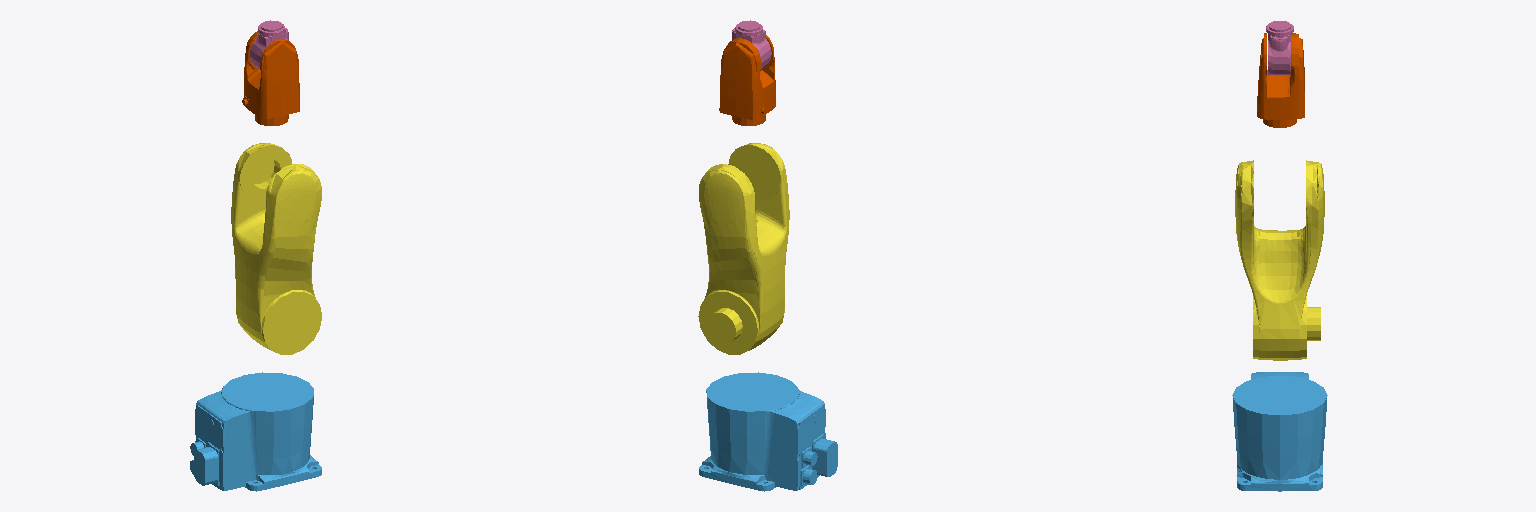
The robot description file, URDF, robot "vs068r":
<?xml version="1.0" encoding="UTF-8"?>
<robot name="vs068r">
	<gazebo>
		<plugin name="gazebo_ros_control" filename="libgazebo_ros_control.so">
			<robotNamespace>/vs068r</robotNamespace>
		</plugin>
	</gazebo>
	<link name="vs068r_world"/>
	<joint name="vs068r_joint_w" type="fixed">
		<parent link="vs068r_world"/>
		<child link="vs068r_base_link"/>
	</joint>
	<link name="vs068r_base_link">
		<visual>
			<origin rpy="0 0 0" xyz="0 0 0"/>
			<geometry>
				<mesh filename="package://denso_robot_descriptions/vs068r_description/base_link.dae" scale="1 1 1"/>
			</geometry>
		</visual>
		<collision>
			<origin rpy="0 0 0" xyz="0 0 0"/>
			<geometry>
				<mesh filename="package://denso_robot_descriptions/vs068r_description/base_link.dae" scale="1 1 1"/>
			</geometry>
		</collision>
		<inertial>
			<mass value="1"/>
			<origin rpy="0.000000 0.000000 0.000000" xyz="0.000000 0.000000 0.000000"/>
			<inertia ixx="1" ixy="0" ixz="0" iyy="1" iyz="0" izz="1"/>
		</inertial>
	</link>
	<link name="vs068r_J1">
		<visual>
			<origin rpy="0 0 0" xyz="0 0 0"/>
			<geometry>
				<mesh filename="package://denso_robot_descriptions/vs068r_description/J1.dae" scale="1 1 1"/>
			</geometry>
		</visual>
		<collision>
			<origin rpy="0 0 0" xyz="0 0 0"/>
			<geometry>
				<mesh filename="package://denso_robot_descriptions/vs068r_description/J1.dae" scale="1 1 1"/>
			</geometry>
		</collision>
		<inertial>
			<mass value="1"/>
			<origin rpy="0.000000 0.000000 0.000000" xyz="0.000000 0.000000 0.000000"/>
			<inertia ixx="1" ixy="0" ixz="0" iyy="1" iyz="0" izz="1"/>
		</inertial>
	</link>
	<joint name="vs068r_joint_1" type="revolute">
		<parent link="vs068r_base_link"/>
		<child link="vs068r_J1"/>
		<origin rpy="0.000000 0.000000 0.000000" xyz="0.000000 0.000000 0.197500"/>
		<axis xyz="-0.000000 -0.000000 1.000000"/>
		<limit effort="1" lower="-2.96705972839036" upper="2.96705972839036" velocity="1"/>
		<dynamics damping="0" friction="0"/>
	</joint>
	<transmission name="vs068r_trans_1">
		<type>transmission_interface/SimpleTransmission</type>
		<joint name="vs068r_joint_1">
			<hardwareInterface>hardware_interface/PositionJointInterface</hardwareInterface>
		</joint>
		<actuator name="vs068r_motor_1">
			<hardwareInterface>hardware_interface/PositionJointInterface</hardwareInterface>
			<mechanicalReduction>1</mechanicalReduction>
		</actuator>
	</transmission>
	<link name="vs068r_J2">
		<visual>
			<origin rpy="0 0 0" xyz="0 0 0"/>
			<geometry>
				<mesh filename="package://denso_robot_descriptions/vs068r_description/J2.dae" scale="1 1 1"/>
			</geometry>
		</visual>
		<collision>
			<origin rpy="0 0 0" xyz="0 0 0"/>
			<geometry>
				<mesh filename="package://denso_robot_descriptions/vs068r_description/J2.dae" scale="1 1 1"/>
			</geometry>
		</collision>
		<inertial>
			<mass value="1"/>
			<origin rpy="0.000000 0.000000 0.000000" xyz="0.000000 0.000000 0.000000"/>
			<inertia ixx="1" ixy="0" ixz="0" iyy="1" iyz="0" izz="1"/>
		</inertial>
	</link>
	<joint name="vs068r_joint_2" type="revolute">
		<parent link="vs068r_J1"/>
		<child link="vs068r_J2"/>
		<origin rpy="0.000000 0.000000 0.000000" xyz="0.030000 0.000000 0.197500"/>
		<axis xyz="-0.000000 1.000000 -0.000000"/>
		<limit effort="1" lower="-1.74532925199433" upper="2.35619449019234" velocity="1"/>
		<dynamics damping="0" friction="0"/>
	</joint>
	<transmission name="vs068r_trans_2">
		<type>transmission_interface/SimpleTransmission</type>
		<joint name="vs068r_joint_2">
			<hardwareInterface>hardware_interface/PositionJointInterface</hardwareInterface>
		</joint>
		<actuator name="vs068r_motor_2">
			<hardwareInterface>hardware_interface/PositionJointInterface</hardwareInterface>
			<mechanicalReduction>1</mechanicalReduction>
		</actuator>
	</transmission>
	<link name="vs068r_J3">
		<visual>
			<origin rpy="0 0 0" xyz="0 0 0"/>
			<geometry>
				<mesh filename="package://denso_robot_descriptions/vs068r_description/J3.dae" scale="1 1 1"/>
			</geometry>
		</visual>
		<collision>
			<origin rpy="0 0 0" xyz="0 0 0"/>
			<geometry>
				<mesh filename="package://denso_robot_descriptions/vs068r_description/J3.dae" scale="1 1 1"/>
			</geometry>
		</collision>
		<inertial>
			<mass value="1"/>
			<origin rpy="0.000000 0.000000 0.000000" xyz="0.000000 0.000000 0.000000"/>
			<inertia ixx="1" ixy="0" ixz="0" iyy="1" iyz="0" izz="1"/>
		</inertial>
	</link>
	<joint name="vs068r_joint_3" type="revolute">
		<parent link="vs068r_J2"/>
		<child link="vs068r_J3"/>
		<origin rpy="0.000000 0.000000 0.000000" xyz="0.000000 0.000000 0.340000"/>
		<axis xyz="-0.000000 1.000000 -0.000000"/>
		<limit effort="1" lower="-2.0943951023932" upper="2.67035375555132" velocity="1"/>
		<dynamics damping="0" friction="0"/>
	</joint>
	<transmission name="vs068r_trans_3">
		<type>transmission_interface/SimpleTransmission</type>
		<joint name="vs068r_joint_3">
			<hardwareInterface>hardware_interface/PositionJointInterface</hardwareInterface>
		</joint>
		<actuator name="vs068r_motor_3">
			<hardwareInterface>hardware_interface/PositionJointInterface</hardwareInterface>
			<mechanicalReduction>1</mechanicalReduction>
		</actuator>
	</transmission>
	<link name="vs068r_J4">
		<visual>
			<origin rpy="0 0 0" xyz="0 0 0"/>
			<geometry>
				<mesh filename="package://denso_robot_descriptions/vs068r_description/J4.dae" scale="1 1 1"/>
			</geometry>
		</visual>
		<collision>
			<origin rpy="0 0 0" xyz="0 0 0"/>
			<geometry>
				<mesh filename="package://denso_robot_descriptions/vs068r_description/J4.dae" scale="1 1 1"/>
			</geometry>
		</collision>
		<inertial>
			<mass value="1"/>
			<origin rpy="0.000000 0.000000 0.000000" xyz="0.000000 0.000000 0.000000"/>
			<inertia ixx="1" ixy="0" ixz="0" iyy="1" iyz="0" izz="1"/>
		</inertial>
	</link>
	<joint name="vs068r_joint_4" type="revolute">
		<parent link="vs068r_J3"/>
		<child link="vs068r_J4"/>
		<origin rpy="0.000000 0.000000 0.000000" xyz="-0.020000 0.000000 0.197000"/>
		<axis xyz="-0.000000 -0.000000 1.000000"/>
		<limit effort="1" lower="-4.71238898038469" upper="4.71238898038469" velocity="1"/>
		<dynamics damping="0" friction="0"/>
	</joint>
	<transmission name="vs068r_trans_4">
		<type>transmission_interface/SimpleTransmission</type>
		<joint name="vs068r_joint_4">
			<hardwareInterface>hardware_interface/PositionJointInterface</hardwareInterface>
		</joint>
		<actuator name="vs068r_motor_4">
			<hardwareInterface>hardware_interface/PositionJointInterface</hardwareInterface>
			<mechanicalReduction>1</mechanicalReduction>
		</actuator>
	</transmission>
	<link name="vs068r_J5">
		<visual>
			<origin rpy="0 0 0" xyz="0 0 0"/>
			<geometry>
				<mesh filename="package://denso_robot_descriptions/vs068r_description/J5.dae" scale="1 1 1"/>
			</geometry>
		</visual>
		<collision>
			<origin rpy="0 0 0" xyz="0 0 0"/>
			<geometry>
				<mesh filename="package://denso_robot_descriptions/vs068r_description/J5.dae" scale="1 1 1"/>
			</geometry>
		</collision>
		<inertial>
			<mass value="1"/>
			<origin rpy="0.000000 0.000000 0.000000" xyz="0.000000 0.000000 0.000000"/>
			<inertia ixx="1" ixy="0" ixz="0" iyy="1" iyz="0" izz="1"/>
		</inertial>
	</link>
	<joint name="vs068r_joint_5" type="revolute">
		<parent link="vs068r_J4"/>
		<child link="vs068r_J5"/>
		<origin rpy="0.000000 0.000000 0.000000" xyz="0.000000 0.000000 0.143000"/>
		<axis xyz="-0.000000 1.000000 -0.000000"/>
		<limit effort="1" lower="-2.0943951023932" upper="2.0943951023932" velocity="1"/>
		<dynamics damping="0" friction="0"/>
	</joint>
	<transmission name="vs068r_trans_5">
		<type>transmission_interface/SimpleTransmission</type>
		<joint name="vs068r_joint_5">
			<hardwareInterface>hardware_interface/PositionJointInterface</hardwareInterface>
		</joint>
		<actuator name="vs068r_motor_5">
			<hardwareInterface>hardware_interface/PositionJointInterface</hardwareInterface>
			<mechanicalReduction>1</mechanicalReduction>
		</actuator>
	</transmission>
	<link name="vs068r_J6">
		<visual>
			<origin rpy="0 0 0" xyz="0 0 0"/>
			<geometry>
				<mesh filename="package://denso_robot_descriptions/vs068r_description/J6.dae" scale="1 1 1"/>
			</geometry>
		</visual>
		<collision>
			<origin rpy="0 0 0" xyz="0 0 0"/>
			<geometry>
				<mesh filename="package://denso_robot_descriptions/vs068r_description/J6.dae" scale="1 1 1"/>
			</geometry>
		</collision>
		<inertial>
			<mass value="1"/>
			<origin rpy="0.000000 0.000000 0.000000" xyz="0.000000 0.000000 0.000000"/>
			<inertia ixx="1" ixy="0" ixz="0" iyy="1" iyz="0" izz="1"/>
		</inertial>
	</link>
	<joint name="vs068r_joint_6" type="revolute">
		<parent link="vs068r_J5"/>
		<child link="vs068r_J6"/>
		<origin rpy="0.000000 0.000000 0.000000" xyz="0.000000 0.000000 0.080000"/>
		<axis xyz="-0.000000 -0.000000 1.000000"/>
		<limit effort="1" lower="-6.28318530717959" upper="6.28318530717959" velocity="1"/>
		<dynamics damping="0" friction="0"/>
	</joint>
	<transmission name="vs068r_trans_6">
		<type>transmission_interface/SimpleTransmission</type>
		<joint name="vs068r_joint_6">
			<hardwareInterface>hardware_interface/PositionJointInterface</hardwareInterface>
		</joint>
		<actuator name="vs068r_motor_6">
			<hardwareInterface>hardware_interface/PositionJointInterface</hardwareInterface>
			<mechanicalReduction>1</mechanicalReduction>
		</actuator>
	</transmission>
</robot>

--- Facts derived from the render (not from the file) ---
The picture shows the robot from 3 angles, left to right: view 1: azimuth 30°, elevation 25°; view 2: azimuth 150°, elevation 25°; view 3: azimuth 270°, elevation 25°; orthographic projection.
Robot: vs068r — 8 links, 7 joints (6 revolute, 1 fixed); root link vs068r_world; default pose: all joints at 0.
Visible links, largest first — view 1: vs068r_J2, vs068r_base_link, vs068r_J4, vs068r_J5; view 2: vs068r_J2, vs068r_base_link, vs068r_J4, vs068r_J5; view 3: vs068r_J2, vs068r_base_link, vs068r_J4, vs068r_J5.
Link boxes in pixels (box(x1,y1,x2,y2)): vs068r_J2: box(231, 143, 321, 354); vs068r_base_link: box(190, 372, 321, 491); vs068r_J4: box(242, 31, 299, 125); vs068r_J5: box(250, 20, 288, 70); vs068r_J2: box(698, 143, 789, 354); vs068r_base_link: box(699, 372, 837, 491); vs068r_J4: box(719, 35, 775, 125); vs068r_J5: box(732, 20, 771, 69); vs068r_J2: box(1235, 160, 1324, 360); vs068r_base_link: box(1232, 372, 1327, 491); vs068r_J4: box(1257, 33, 1304, 127); vs068r_J5: box(1266, 21, 1293, 74).
Size in the robot's own frame: 0.3155 by 0.22 by 1.15 metres.
Meshes: 7 distinct files referenced, 4 mesh visuals loaded (4 Collada DAE); not drawn: 3 (reference not matched to a file when rendering).
